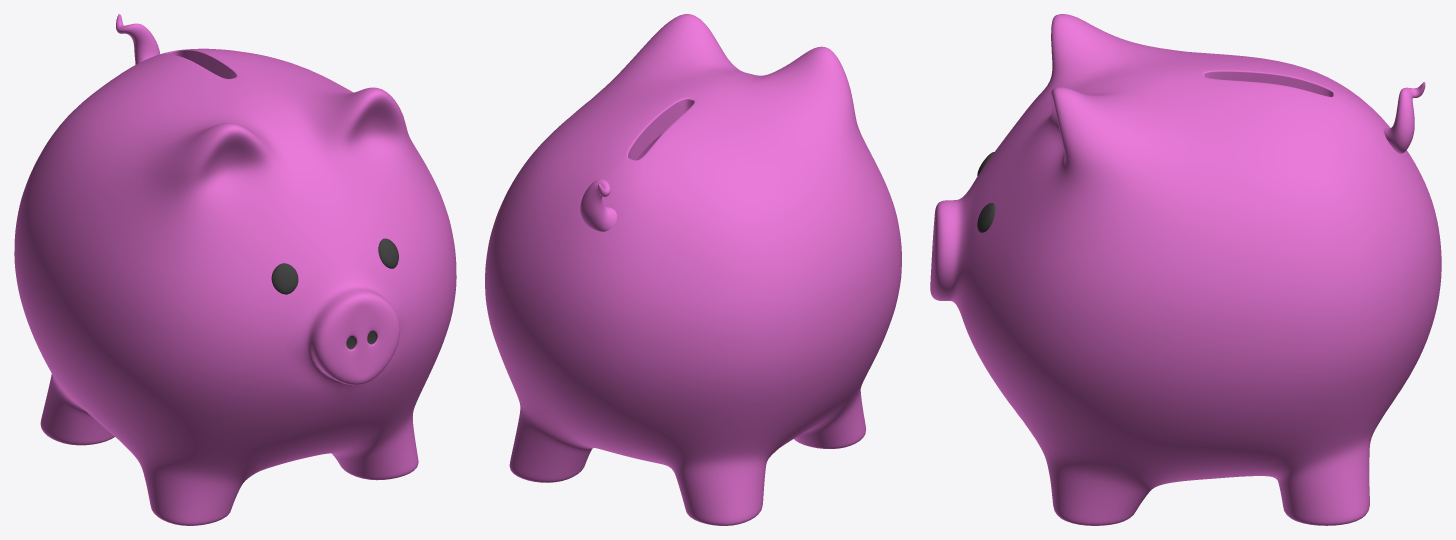
File: piggy-bank-user.glb
3 renders of one model, left to right at view 1: azimuth 30°, elevation 25°; view 2: azimuth 150°, elevation 25°; view 3: azimuth 270°, elevation 25°, orthographic. The views are drawn at different scales.
Parts seen in each view (by area): view 1: UserPiggyShell, UserPiggyEyes; view 2: UserPiggyShell; view 3: UserPiggyShell.
Boxes of the visible parts, <box> form: UserPiggyShell: <box>14,14,456,525</box>; UserPiggyEyes: <box>271,238,398,349</box>; UserPiggyShell: <box>485,14,901,525</box>; UserPiggyShell: <box>930,14,1441,525</box>.
Size of the model in its own units: 2.26 by 2.35 by 2.65.
